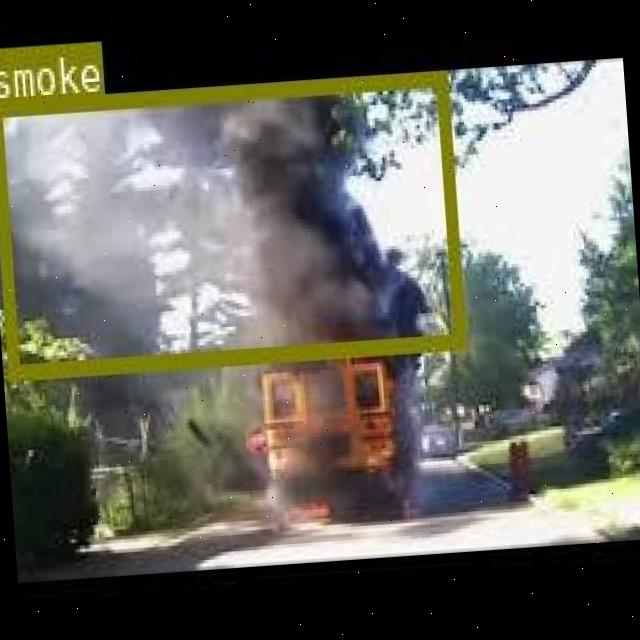smoke: (0, 68, 462, 377)
